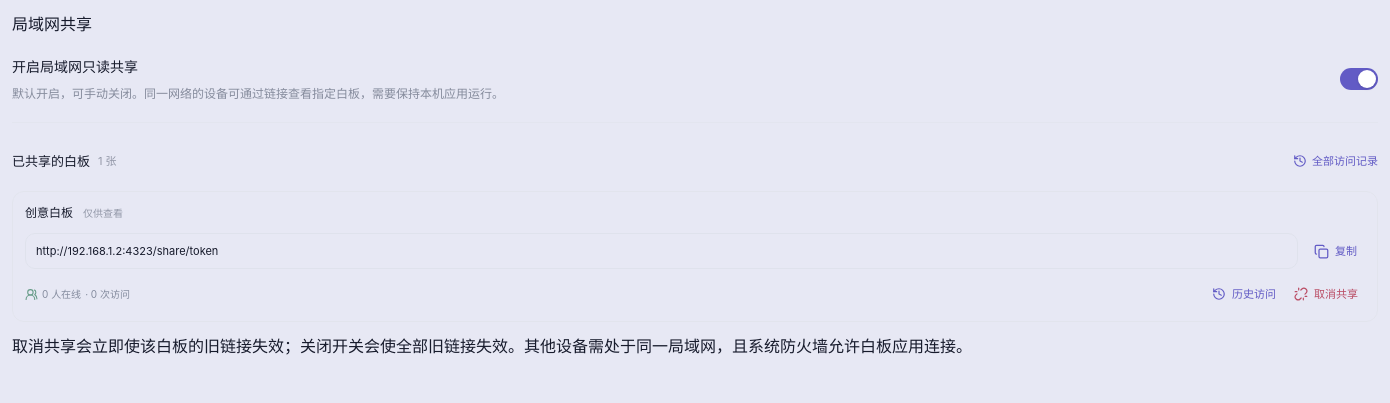
opens per-board history and keeps the global history entry after revocation
The image size is (1390, 403).
Expected: the list named "已共享白板列表" is shown, x1=12 y1=191 x2=1378 y2=322
Click the button with aria-label "查看 创意白板 的历史访问": x=1244, y=294 x1=1205 y1=279 x2=1283 y2=309
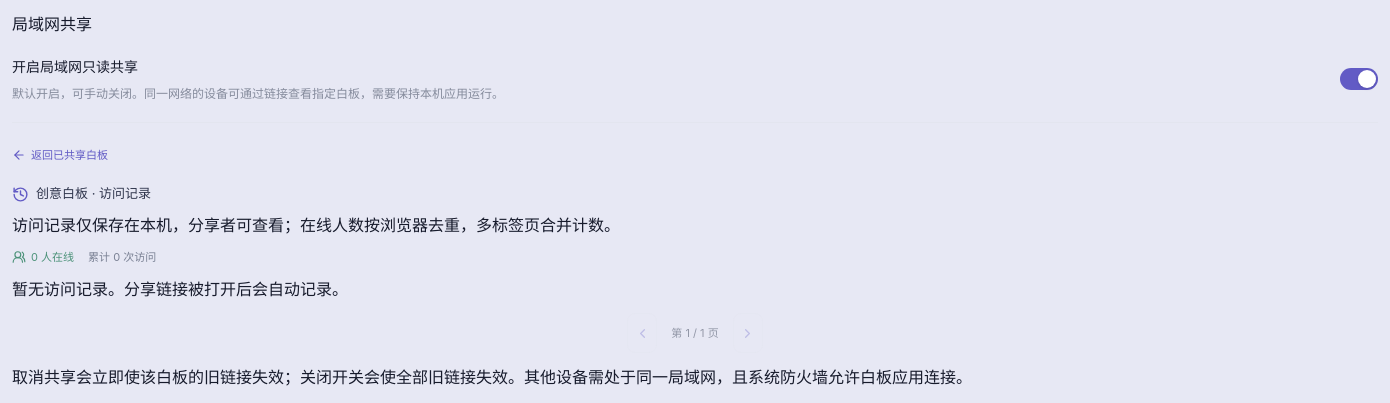
Now the text "暂无访问记录。分享链接被打开后会自动记录。" is shown, box x1=12 y1=279 x2=348 y2=299
Click the button "返回已共享白板": x=60, y=155 x1=12 y1=135 x2=108 y2=175
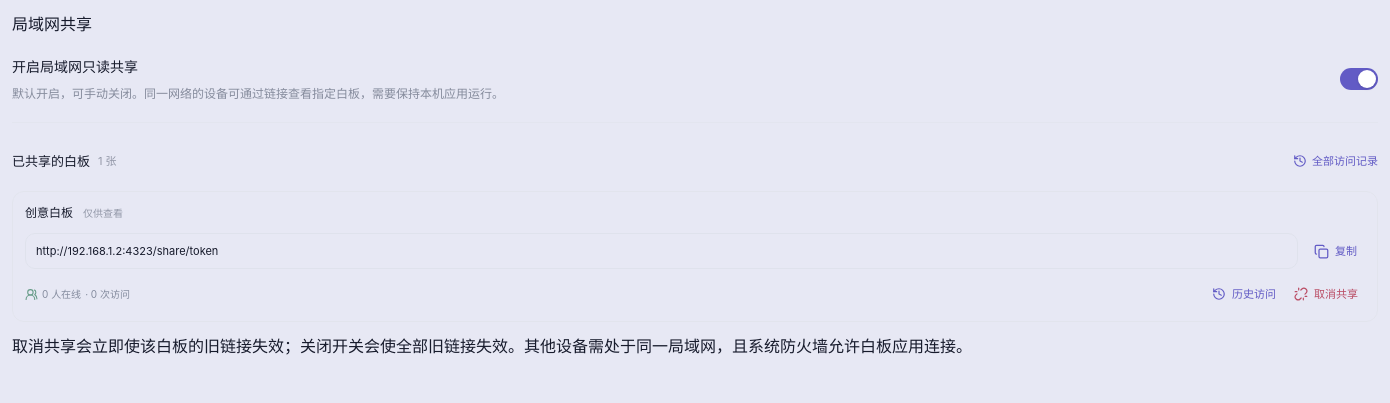
Click the button with aria-label "取消共享 创意白板": x=1326, y=294 x1=1287 y1=279 x2=1365 y2=309
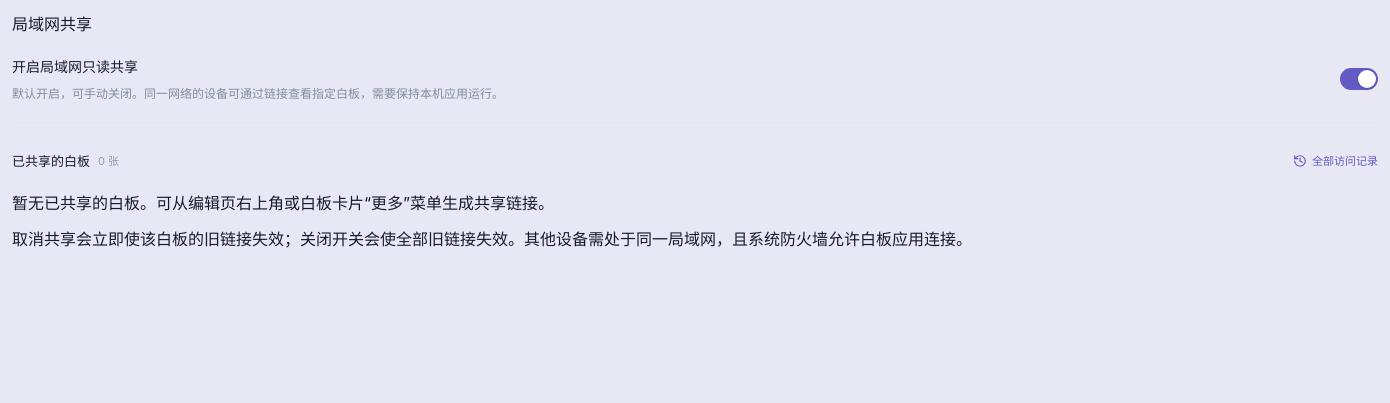
Now the text "暂无已共享的白板。可从编辑页右上角或白板卡片“更多”菜单生成共享链接。" is shown, box x1=12 y1=193 x2=554 y2=213
Click the button "全部访问记录": x=1336, y=161 x1=1293 y1=141 x2=1378 y2=181
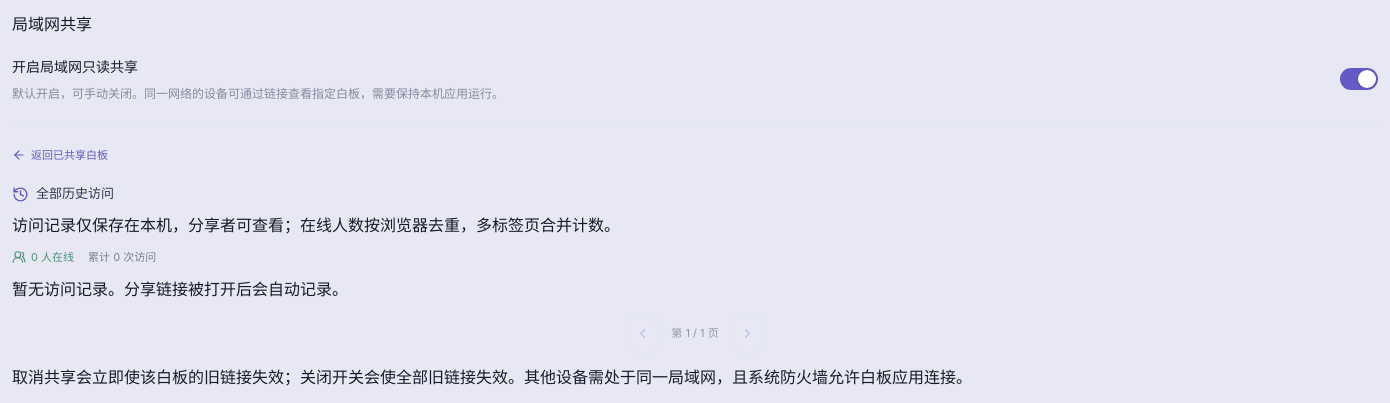
Now the heading "全部历史访问" is shown, box x1=36 y1=184 x2=114 y2=204
